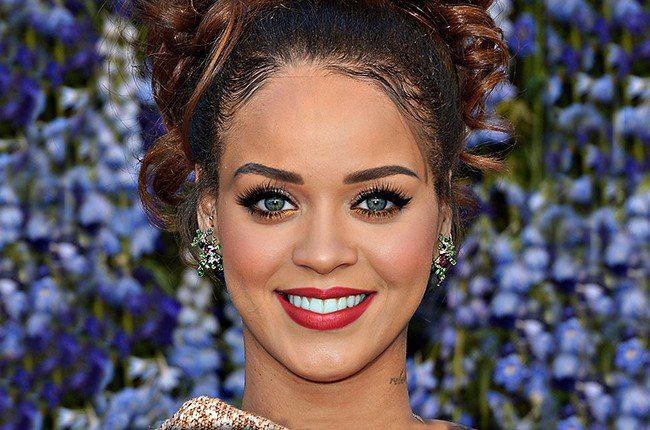Sober: (229, 94, 435, 359)
